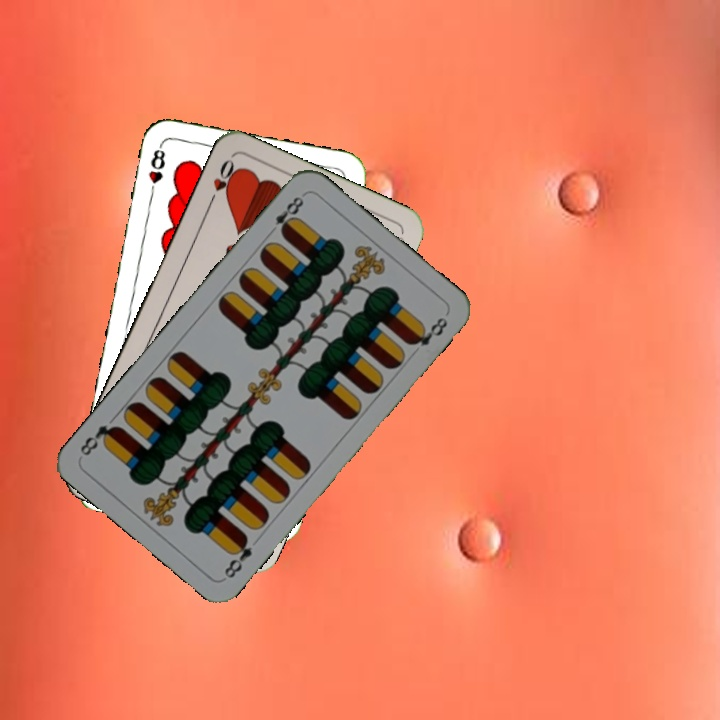E8: (263, 190, 307, 239), (220, 531, 255, 581)
H8: (144, 141, 168, 200)
HO: (203, 155, 241, 210)
